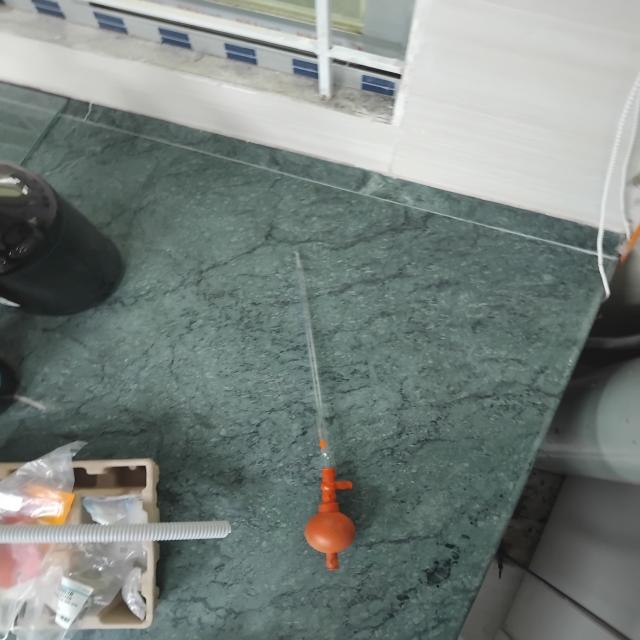Volumetric_Pipet: (256, 228, 404, 584)
